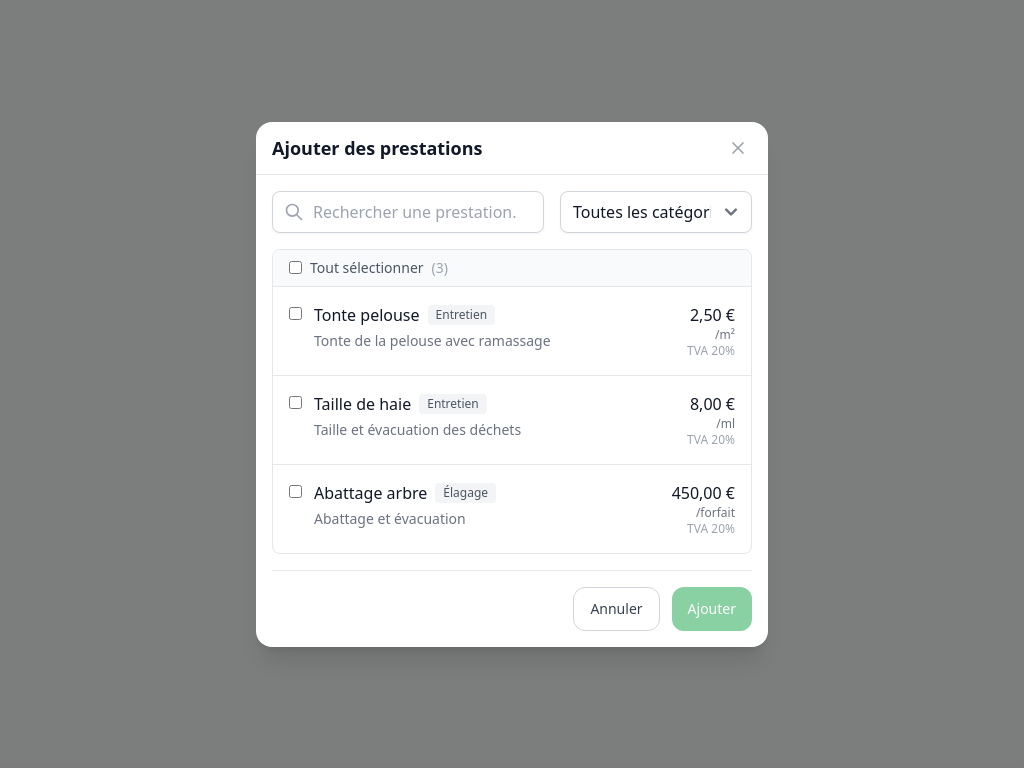
Test: TemplateSelector › allows selecting all templates
Expected: the text "Tonte pelouse" is shown, [314, 302, 420, 326]
Click the checkbox labelled "Tout sélectionner (3)".
click(296, 268)  # box [289, 261, 302, 274]
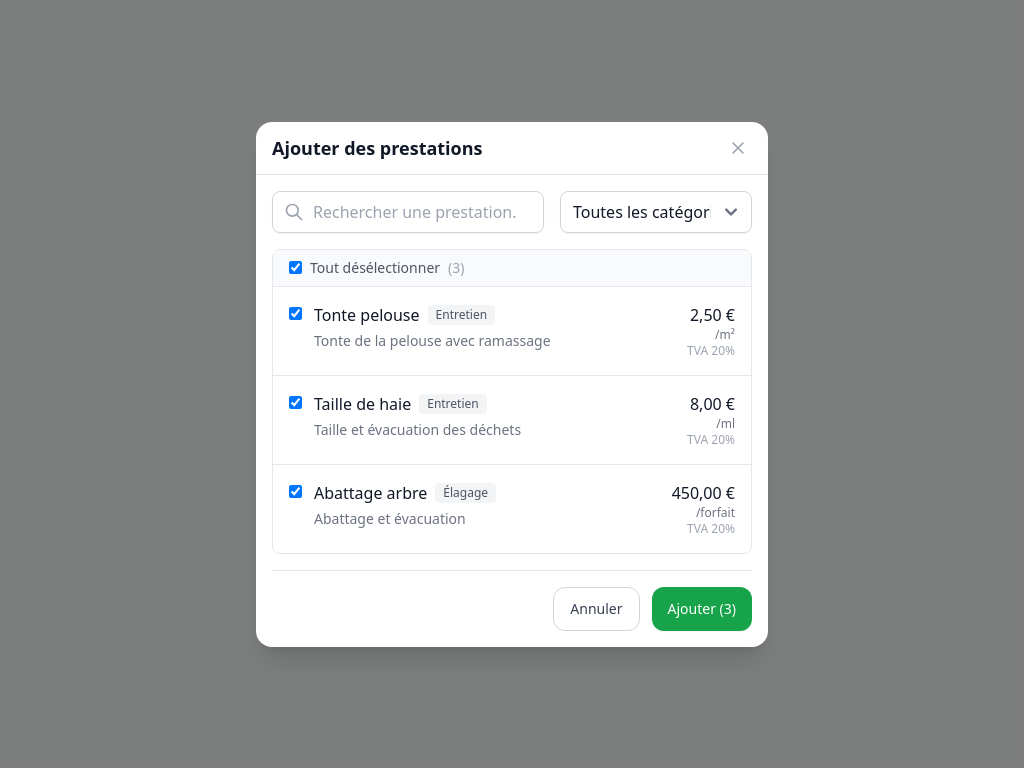
Expected: the button "Ajouter (3)" is shown, [652, 586, 752, 630]
